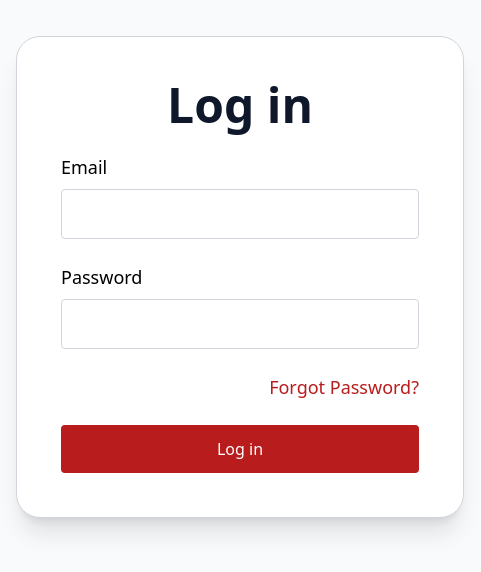
<LoginForm /> › shows error message on failed login
Type "wrong@example.com" into the field labelled "Email" at (240, 214), box [61,189,419,239]
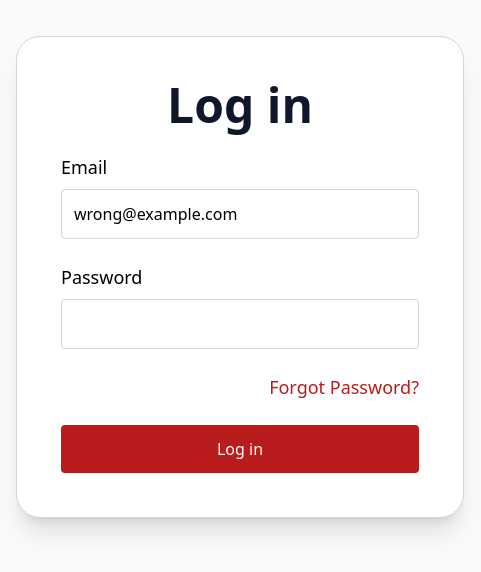
Type "wrongpass" into the password field labelled "Password" at (240, 324), box [61,299,419,349]
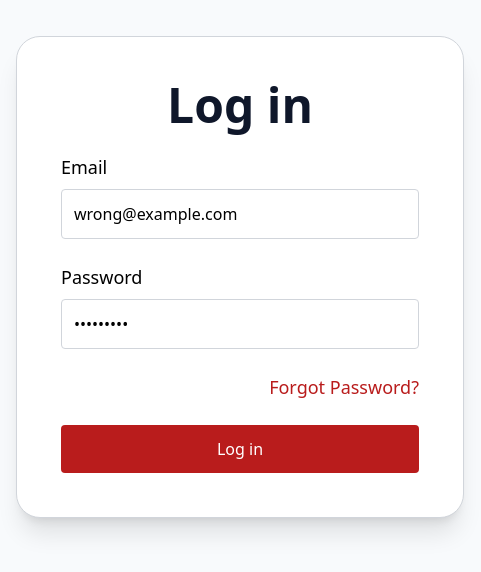
Click the button "Log in" at (240, 449), box [61,425,419,473]
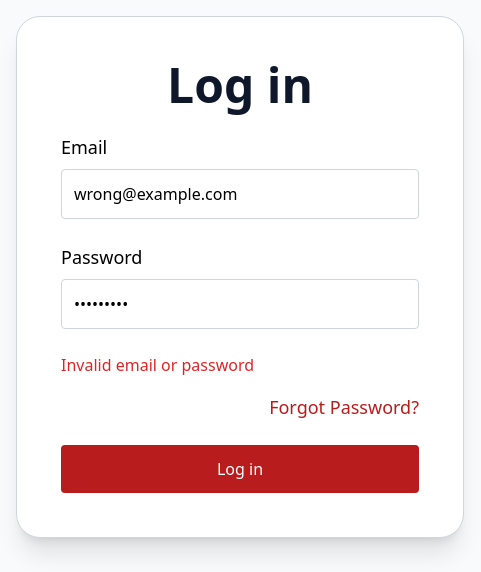
Now the text "Invalid email or password" is shown, box [61,354,254,376]
